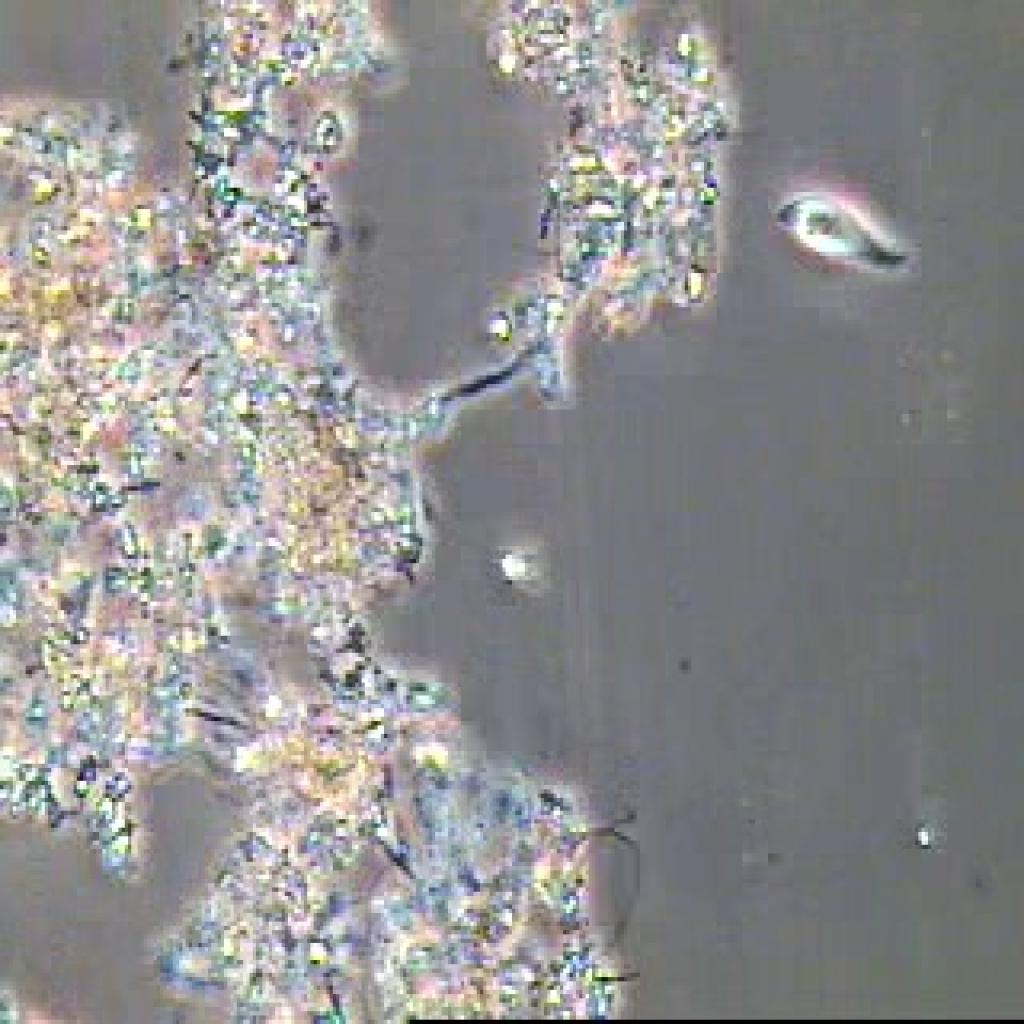Pristina: (748, 170, 922, 316)
